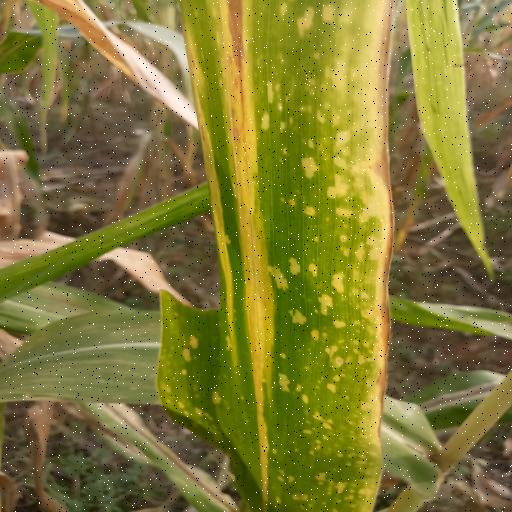Corn_Yellow_Spots: (152, 0, 401, 512)
